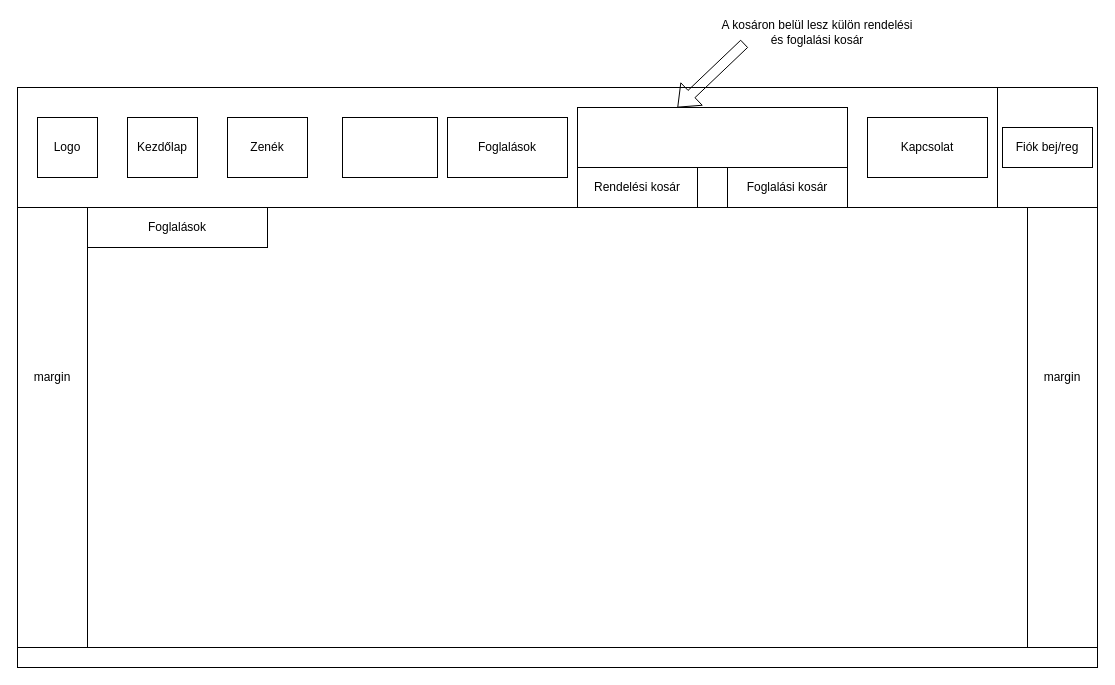
Image size: 1115x685. Some labels were removed from this diagram. Each missing label, with the box of its shape:
Filmek/Sorozatok: (342, 116, 438, 178)
Footer: (16, 646, 1098, 668)
Jelenleg nincsen foglalás: (86, 206, 1028, 648)
Kosár: (576, 106, 848, 168)
